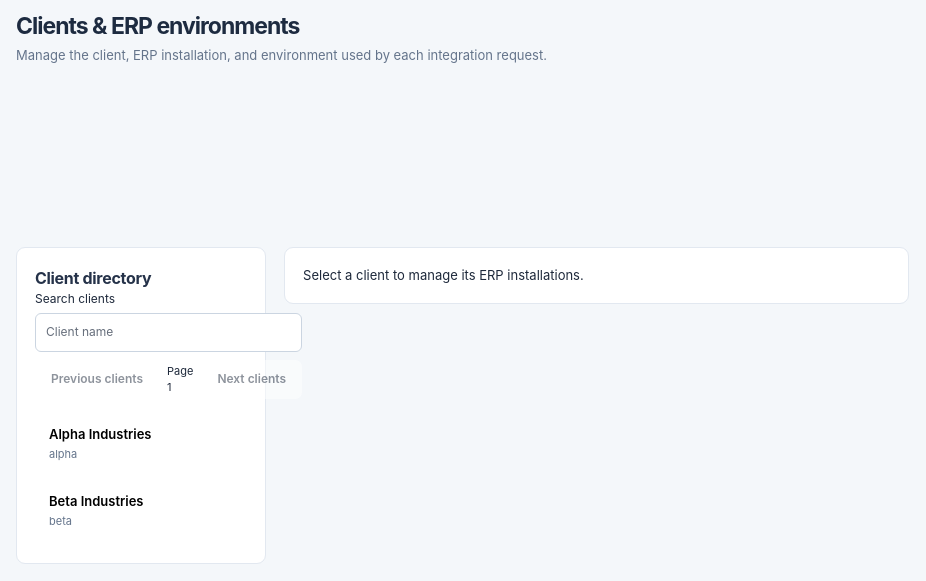
Scenario: client onboarding console › hides client administration controls from a consultant
Click the button "Alpha Industries alpha": [141, 444] box [35, 411, 247, 478]
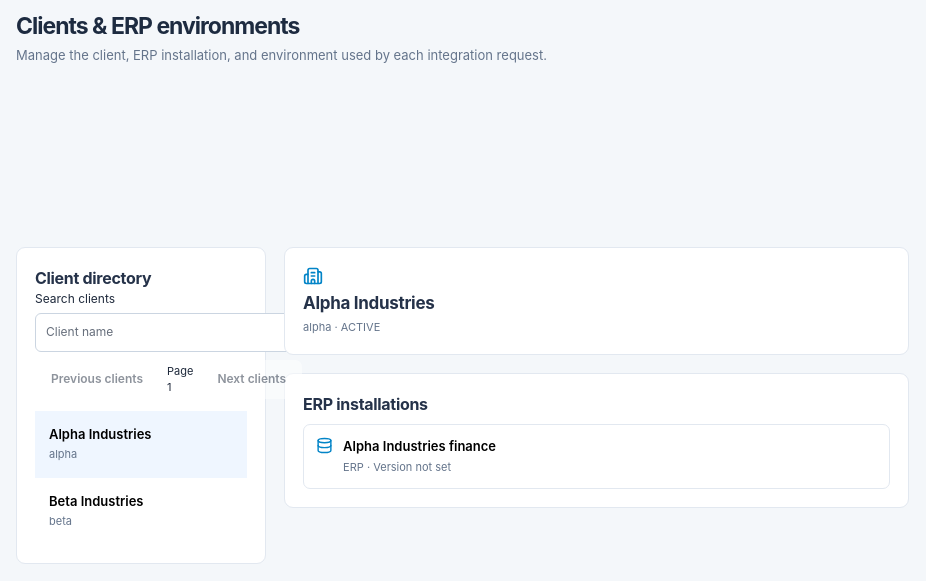
Now the button "Alpha Industries finance ERP · Version not set" is shown, box [303, 424, 890, 489]
